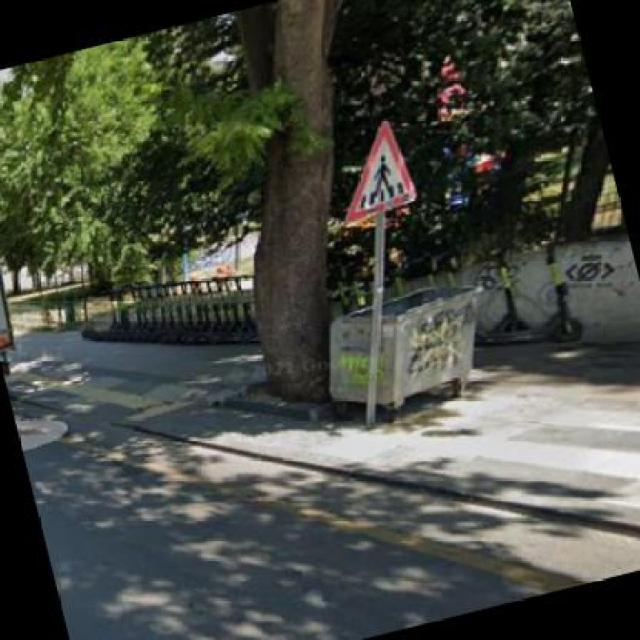yaya: (347, 119, 418, 222)
